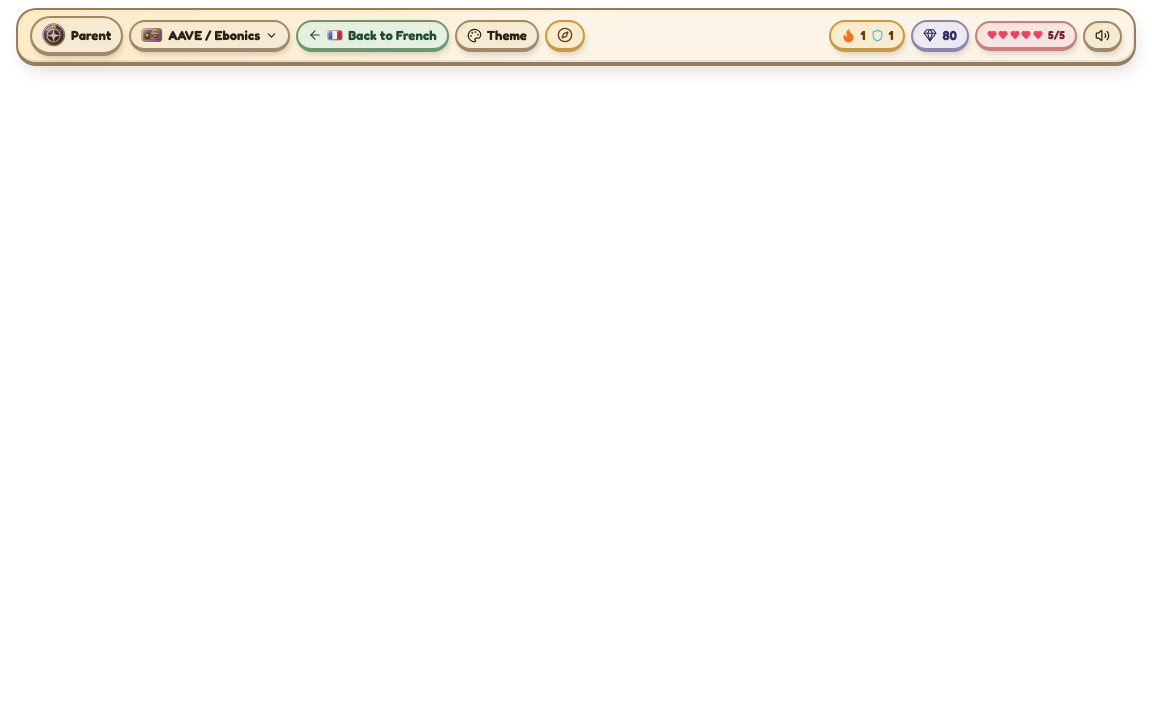
Cohort G [PT-116..PT-125]: Sprint 3 Features (Operation Aurora Pact) › [PT-116] (S3-001) TopHud & App enforce Safe Atlas masking during Kid-Quarantined Co-Op, auto-close lang popover, hide Return to Kid Atlas, and restore cleanly o
Later steps or results of the test are not shown.
Expected: the button with test id "return-to-kid-atlas-btn" is shown, x1=296 y1=20 x2=449 y2=52
Click the button "AAVE / Ebonics": (210, 36) x1=129 y1=20 x2=290 y2=52
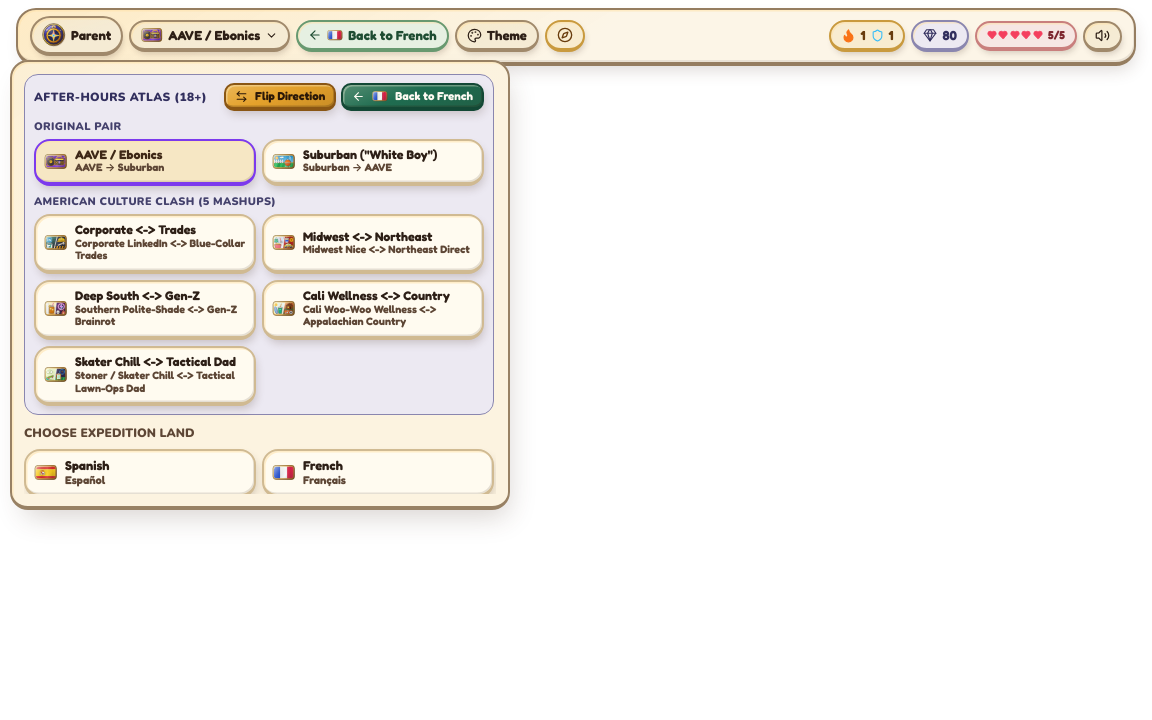
Expected: the dialog named "Switch Language" is shown, x1=10 y1=60 x2=510 y2=510
